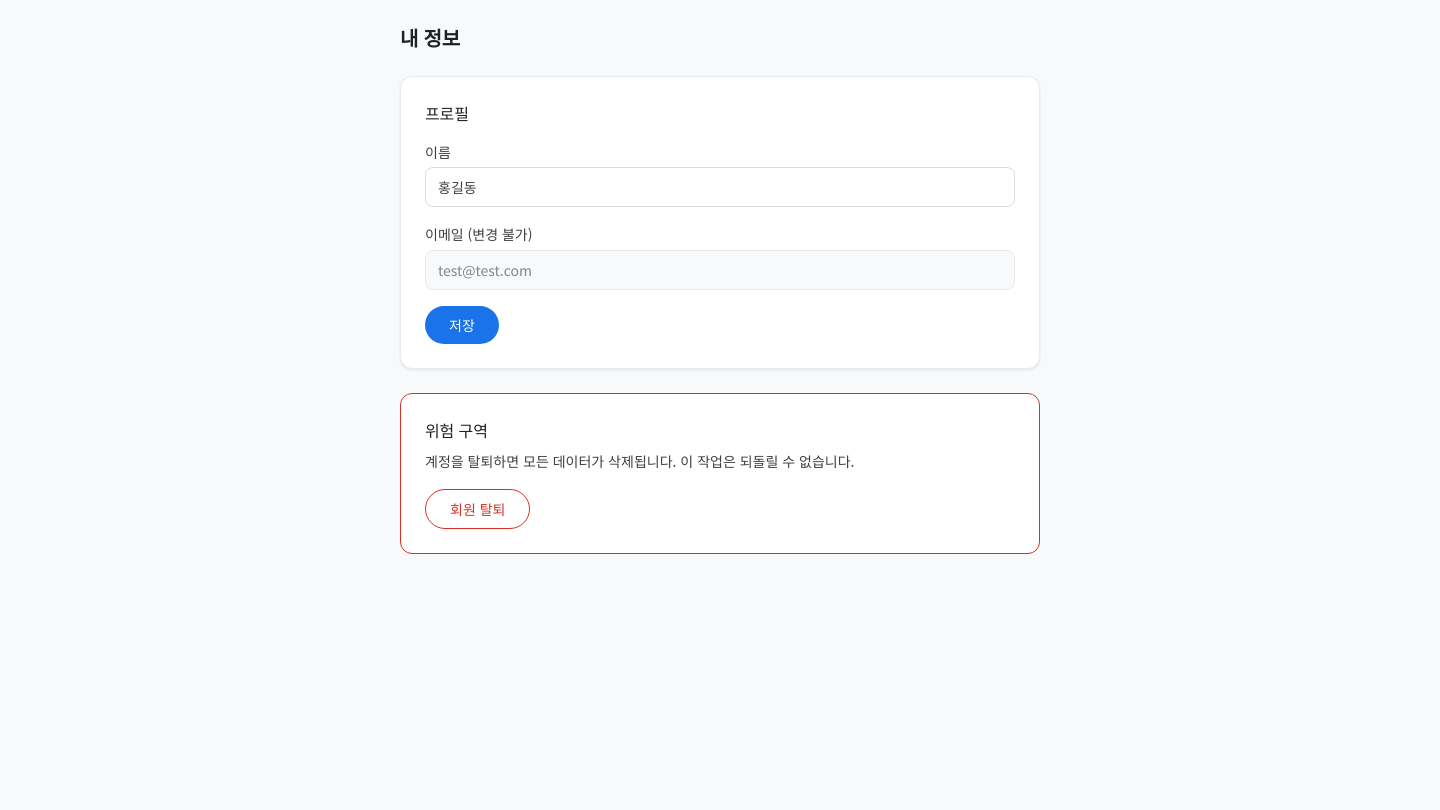
ProfilePage › 탈퇴 Modal에서 잘못된 비밀번호 입력 시 에러가 표시된다
Click the button "회원 탈퇴" at [478, 509], box [425,489,530,529]
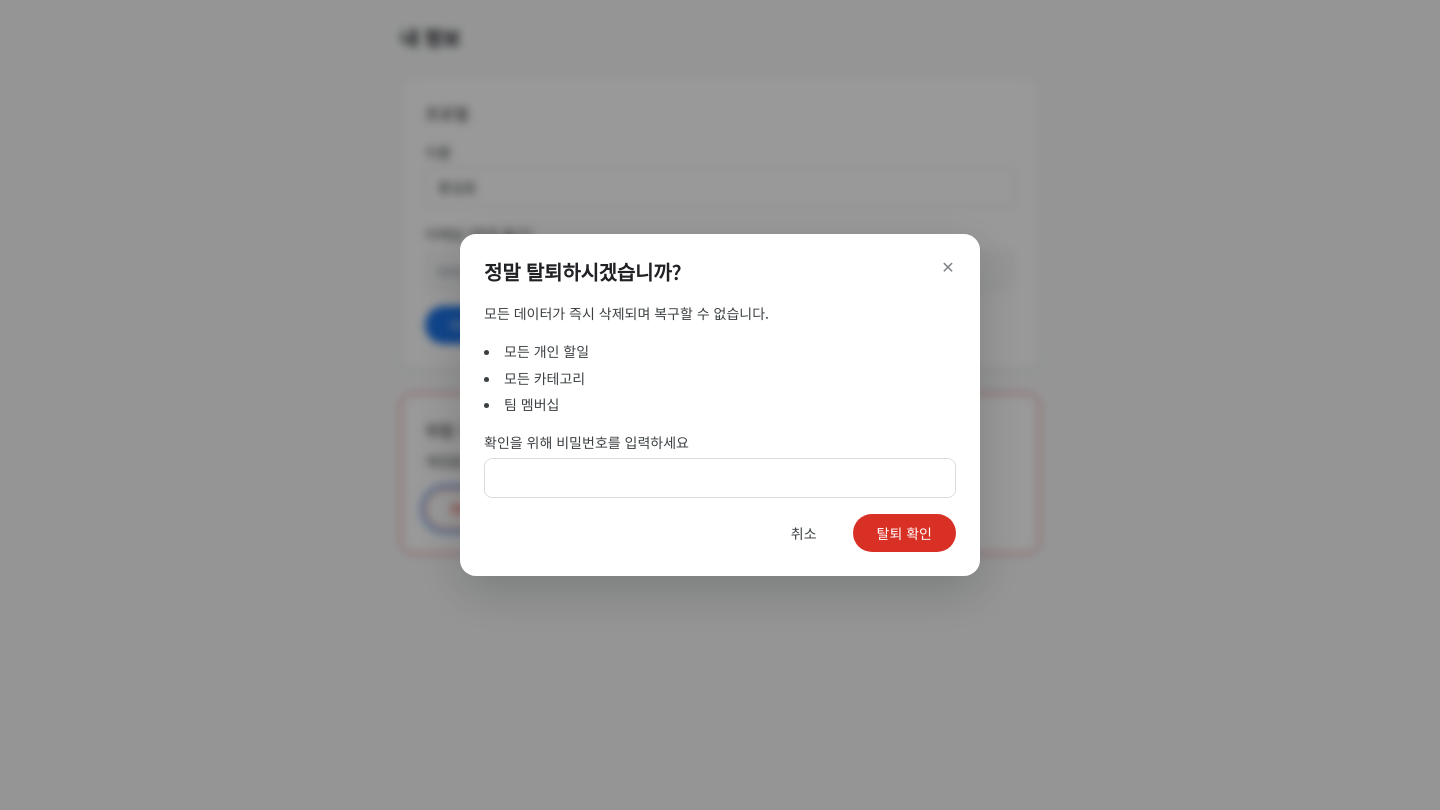
Expected: the dialog is shown, [460,234,980,576]
Type "wrongpassword" into the password field labelled "확인을 위해 비밀번호를 입력하세요" at [720, 478], box [484,458,956,498]
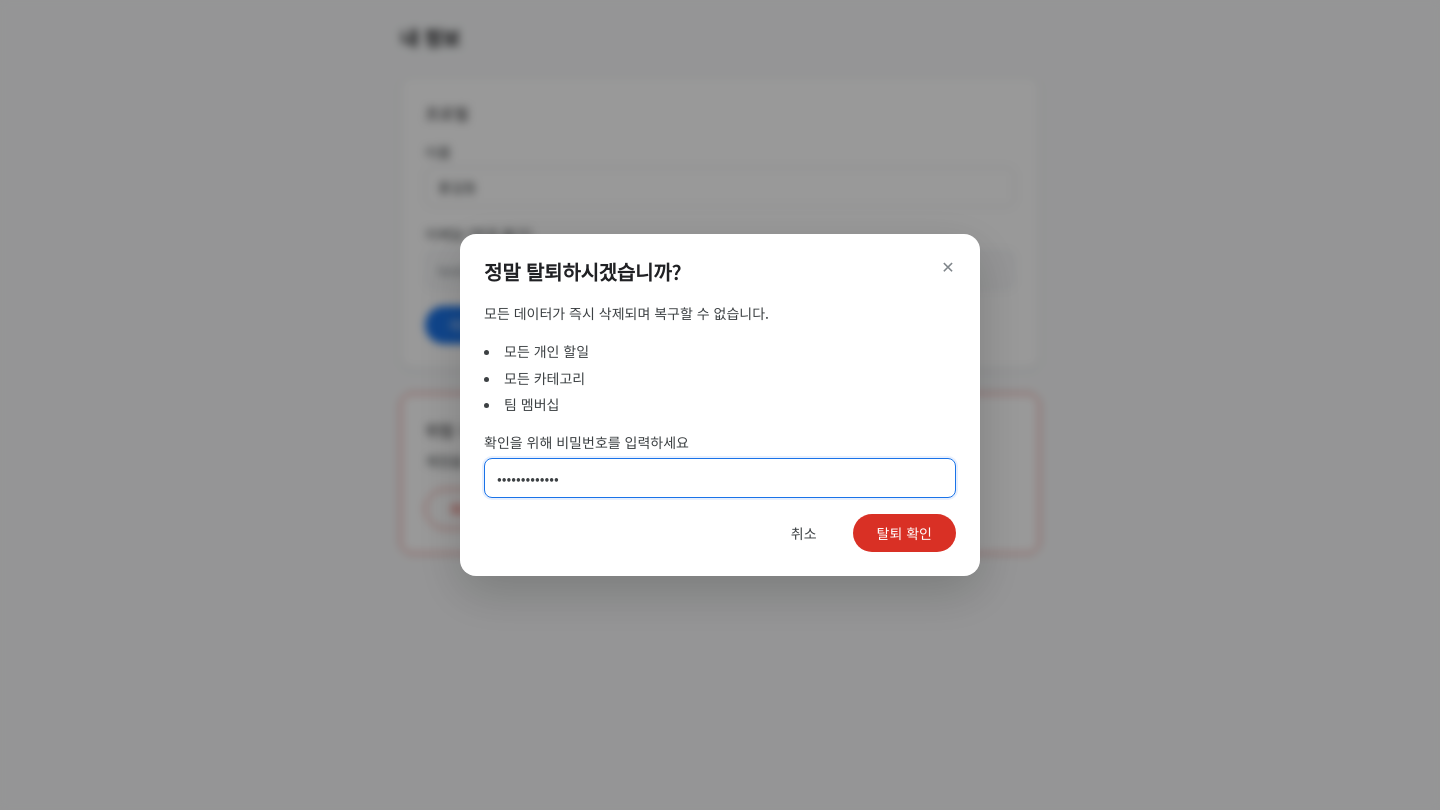
Click the button "탈퇴 확인" at [904, 533], box [852,514,956,552]
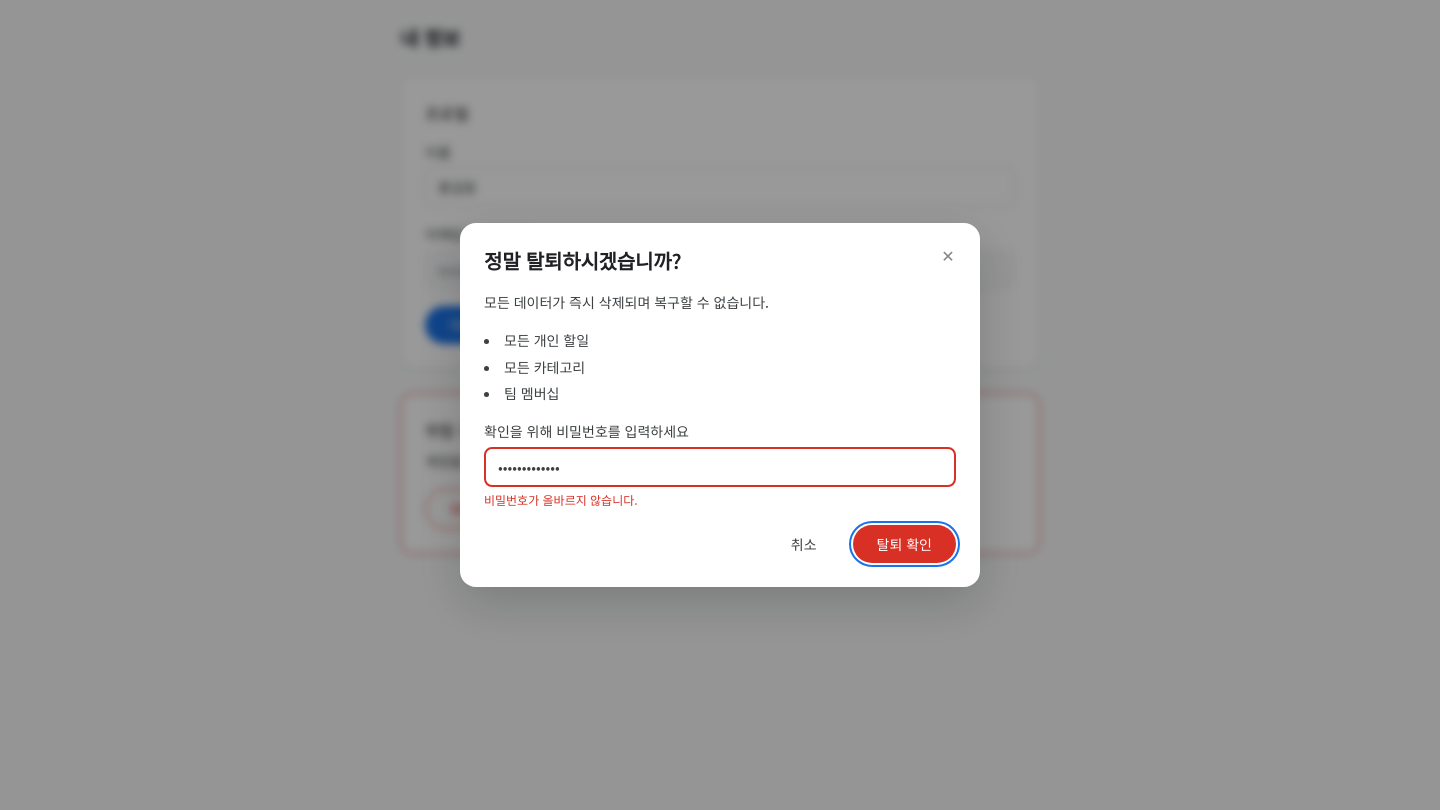
Expected: the text "비밀번호가 올바르지 않습니다." is shown, [484,491,638,508]
